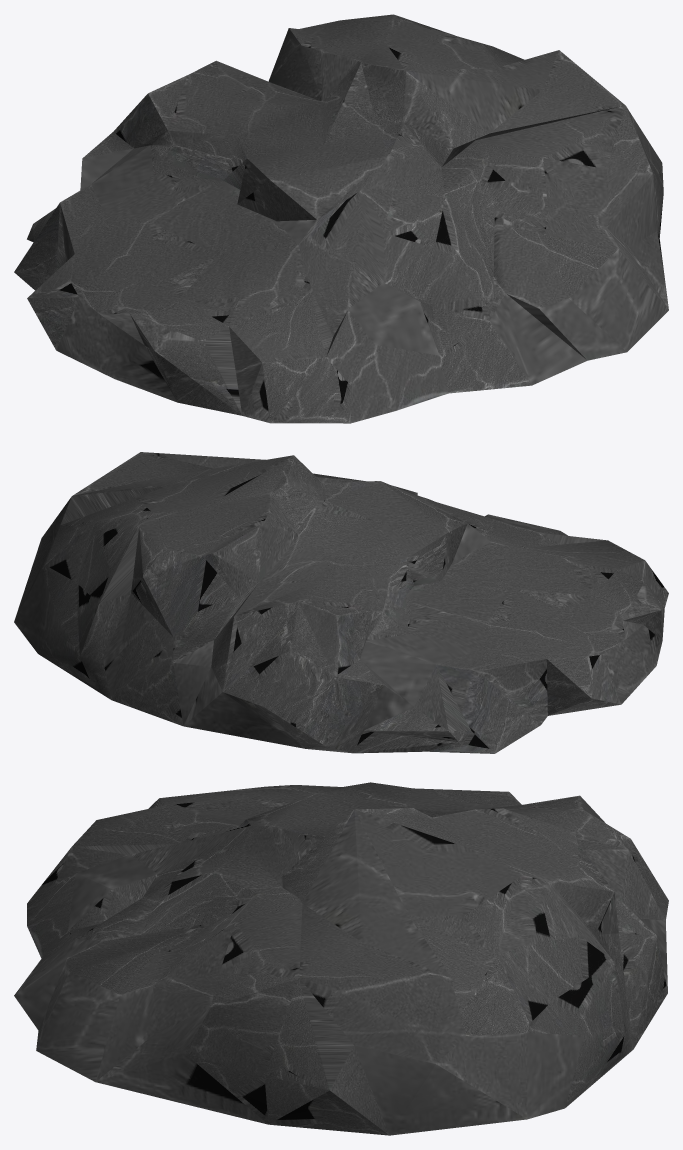
Rendered from co_slate_outcrop_lod1.glb.
3 views of the same model, one above another, from view 1: azimuth 30°, elevation 25°; view 2: azimuth 150°, elevation 25°; view 3: azimuth 270°, elevation 25° (orthographic). The views are drawn at different scales.
Parts seen in each view (by area): view 1: output_unwrapped; view 2: output_unwrapped; view 3: output_unwrapped.
Part boxes in pixels (x1,y1,x2,y2): output_unwrapped: (14, 14, 668, 423); output_unwrapped: (14, 452, 668, 753); output_unwrapped: (14, 782, 668, 1135).
Bounding box in the file's own units: 1.84 × 0.5597 × 1.63.
1 material, 1 textured.
